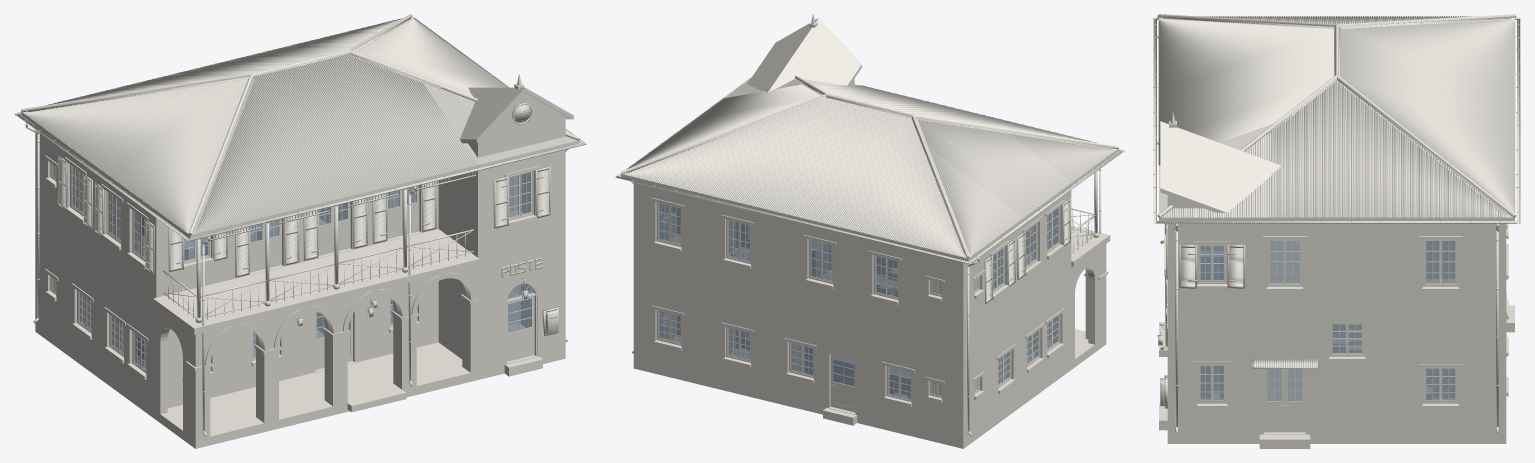
Rendered from fond_h10.glb.
3 views of the same model, side by side, from view 1: azimuth 30°, elevation 25°; view 2: azimuth 150°, elevation 25°; view 3: azimuth 270°, elevation 25° (orthographic). The views are drawn at different scales.
Parts seen in each view (by area): view 1: Dt_corrugated_rust, Roof_Main_Hip, Wall_West, Slab_Veranda, Wall_Front_Gallery, Wall_Pavilion_Front, Arcade_Pillars, Floor_Gallery, Dt_shutter_paint, Wall_Pavilion_West, Dt_new_cast_iron_green, Veranda_Ironwork (+27 smaller); view 2: Wall_Back, Dt_corrugated_rust, Roof_Main_Hip, Wall_West, Roof_Gable_Clock, Dt_new_cast_iron_green, Roof_Ridge_Hip_Caps, Wall_East, Wall_Gallery_West, Dt_shutter_paint, DoorLeaf_06_L_in, Window_back_25 (+17 smaller); view 3: Dt_corrugated_rust, Wall_East, Roof_Main_Hip, Roof_Gable_Clock, Dt_new_cast_iron_green, Roof_Ridge_Hip_Caps, Window_east_18, Window_east_19, Dt_shutter_paint, Window_east_17, Window_east_07, Window_east_06 (+10 smaller).
Boxes of the visible parts, x1,y1,x2,y2 form: Dt_corrugated_rust: (25,17,508,233); Roof_Main_Hip: (21,17,579,238); Wall_West: (35,126,163,419); Slab_Veranda: (153,229,479,334); Wall_Front_Gallery: (163,180,438,408); Wall_Pavilion_Front: (485,118,558,378); Arcade_Pillars: (185,266,478,439); Floor_Gallery: (156,342,477,448); Dt_shutter_paint: (58,155,550,277); Wall_Pavilion_West: (438,136,485,379); Dt_new_cast_iron_green: (14,16,586,436); Veranda_Ironwork: (163,188,473,322); Wall_Back: (640,184,956,447); Dt_corrugated_rust: (628,83,1114,256); Roof_Main_Hip: (621,78,1118,261); Wall_West: (957,187,1071,448); Roof_Gable_Clock: (747,18,861,92); Dt_new_cast_iron_green: (615,77,1124,436); Roof_Ridge_Hip_Caps: (621,76,1119,258); Wall_East: (633,182,675,369); Wall_Gallery_West: (1071,249,1098,361); Dt_shutter_paint: (984,198,1070,304); DoorLeaf_06_L_in: (830,354,855,412); Window_back_25: (868,250,901,305); Dt_corrugated_rust: (1158,16,1515,367); Wall_East: (1167,195,1506,443); Roof_Main_Hip: (1159,16,1514,220); Roof_Gable_Clock: (1160,121,1281,212); Dt_new_cast_iron_green: (1153,17,1520,433); Roof_Ridge_Hip_Caps: (1157,14,1516,217); Window_east_18: (1262,236,1307,292); Window_east_19: (1418,236,1462,292); Dt_shutter_paint: (1166,223,1245,288); Window_east_17: (1418,364,1462,409); Window_east_07: (1193,241,1231,289); Window_east_06: (1193,361,1231,409).
Size of the model in its own units: 16.38 by 11.5 by 12.38.
